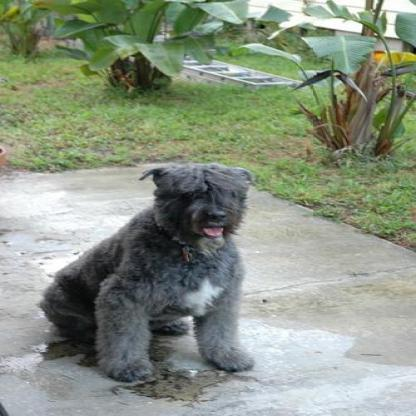Bouvier_des_Flandres: (32, 159, 254, 383)
